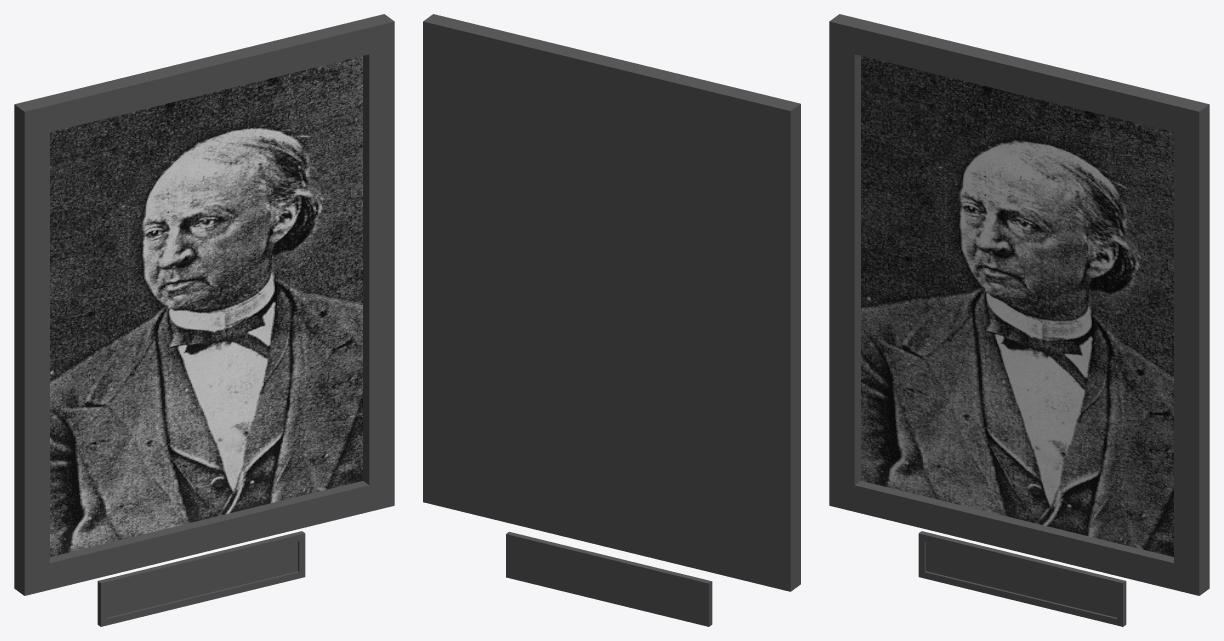
Rendered from mebiususi_2.fbx.
The picture shows the model from 3 angles, left to right: view 1: azimuth 30°, elevation 25°; view 2: azimuth 150°, elevation 25°; view 3: azimuth 330°, elevation 25°; orthographic projection.
Parts seen in each view (by area): view 1: A_F_mebiusu_2; view 2: A_F_mebiusu_2; view 3: A_F_mebiusu_2.
Boxes of the visible parts, x1,y1,x2,y2 form: A_F_mebiusu_2: (14, 14, 394, 626); A_F_mebiusu_2: (423, 14, 800, 626); A_F_mebiusu_2: (829, 14, 1209, 626).
Size of the model in its own units: 72.8 by 102 by 3.5.
